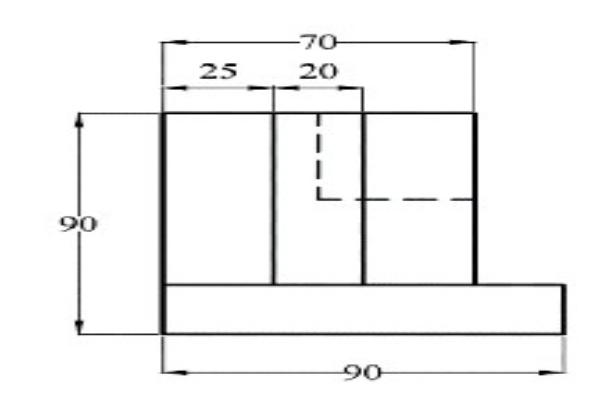dimensions: (296, 21, 341, 56), (50, 209, 107, 235), (336, 357, 387, 385), (292, 56, 344, 83), (197, 58, 242, 84)
